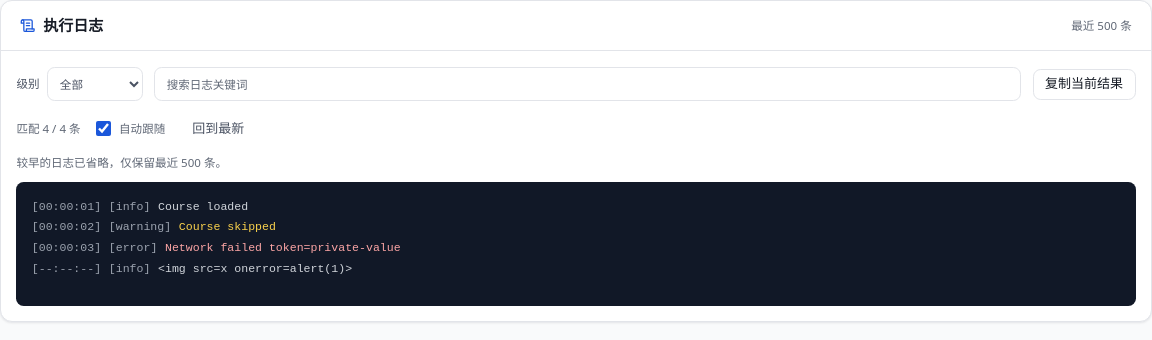
it: combines filters, renders messages as text, and reports empty results
expect the text "较早的日志已省略，仅保留最近 500 条。" is shown: met, box [16,155,227,170]
Step 1. Select "错误与警告" in the dropdown named "日志级别" → (95, 84), box [47,67,143,101]
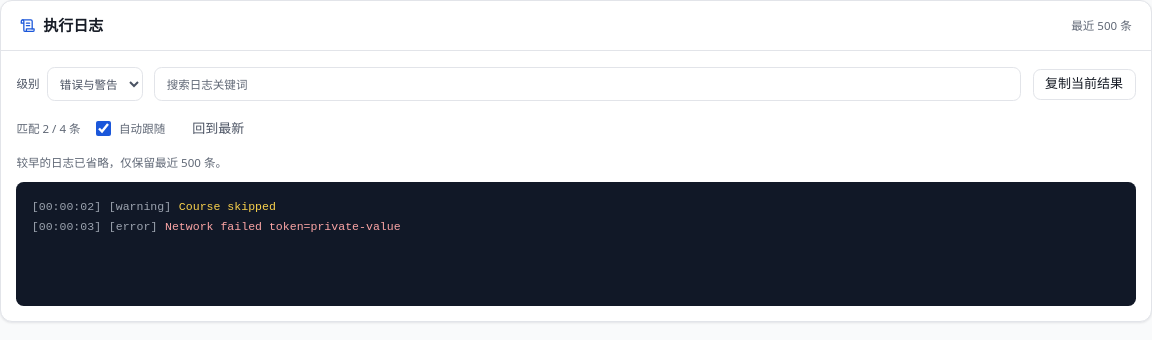
Step 2. Type "course" into the search field labelled "搜索日志" → (588, 84), box [154,67,1021,101]
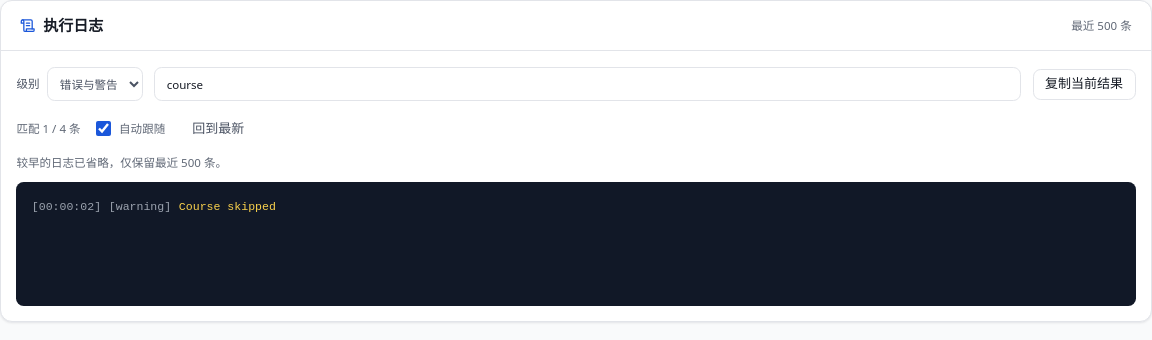
expect the text "Course skipped" is shown: met, box [179,200,276,213]
expect the text "匹配 1 / 4 条" is shown: met, box [16,121,81,136]
Step 3. Replace the text in the search field named "搜索日志" with "absent" → (588, 84), box [154,67,1021,101]
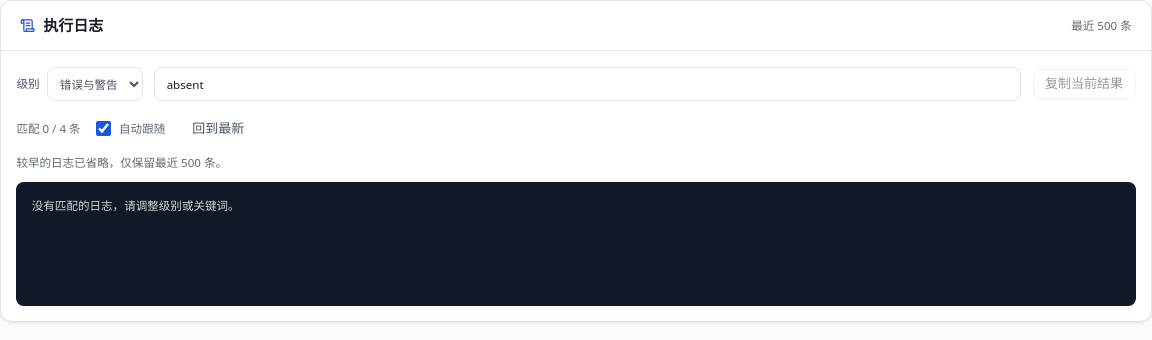
expect the text "没有匹配的日志，请调整级别或关键词。" is shown: met, box [32,200,240,213]
expect the button "复制当前结果" is disabled: met, box [1032,69,1136,100]
